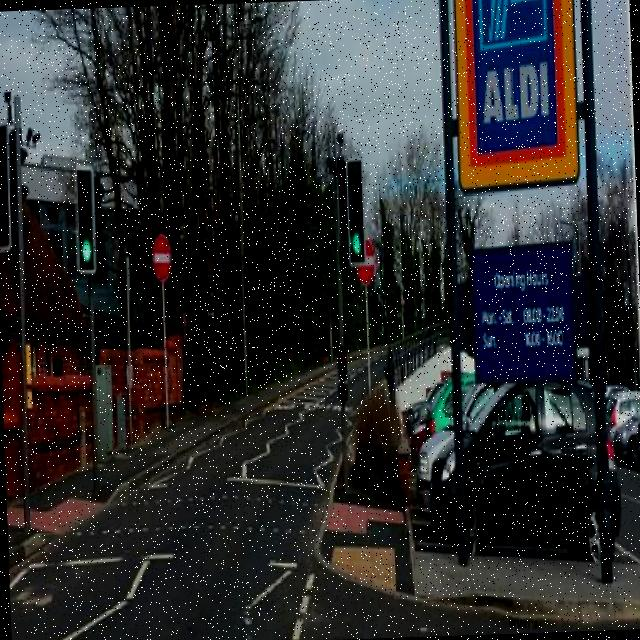Zakaz wjazdu: (148, 228, 176, 289)
